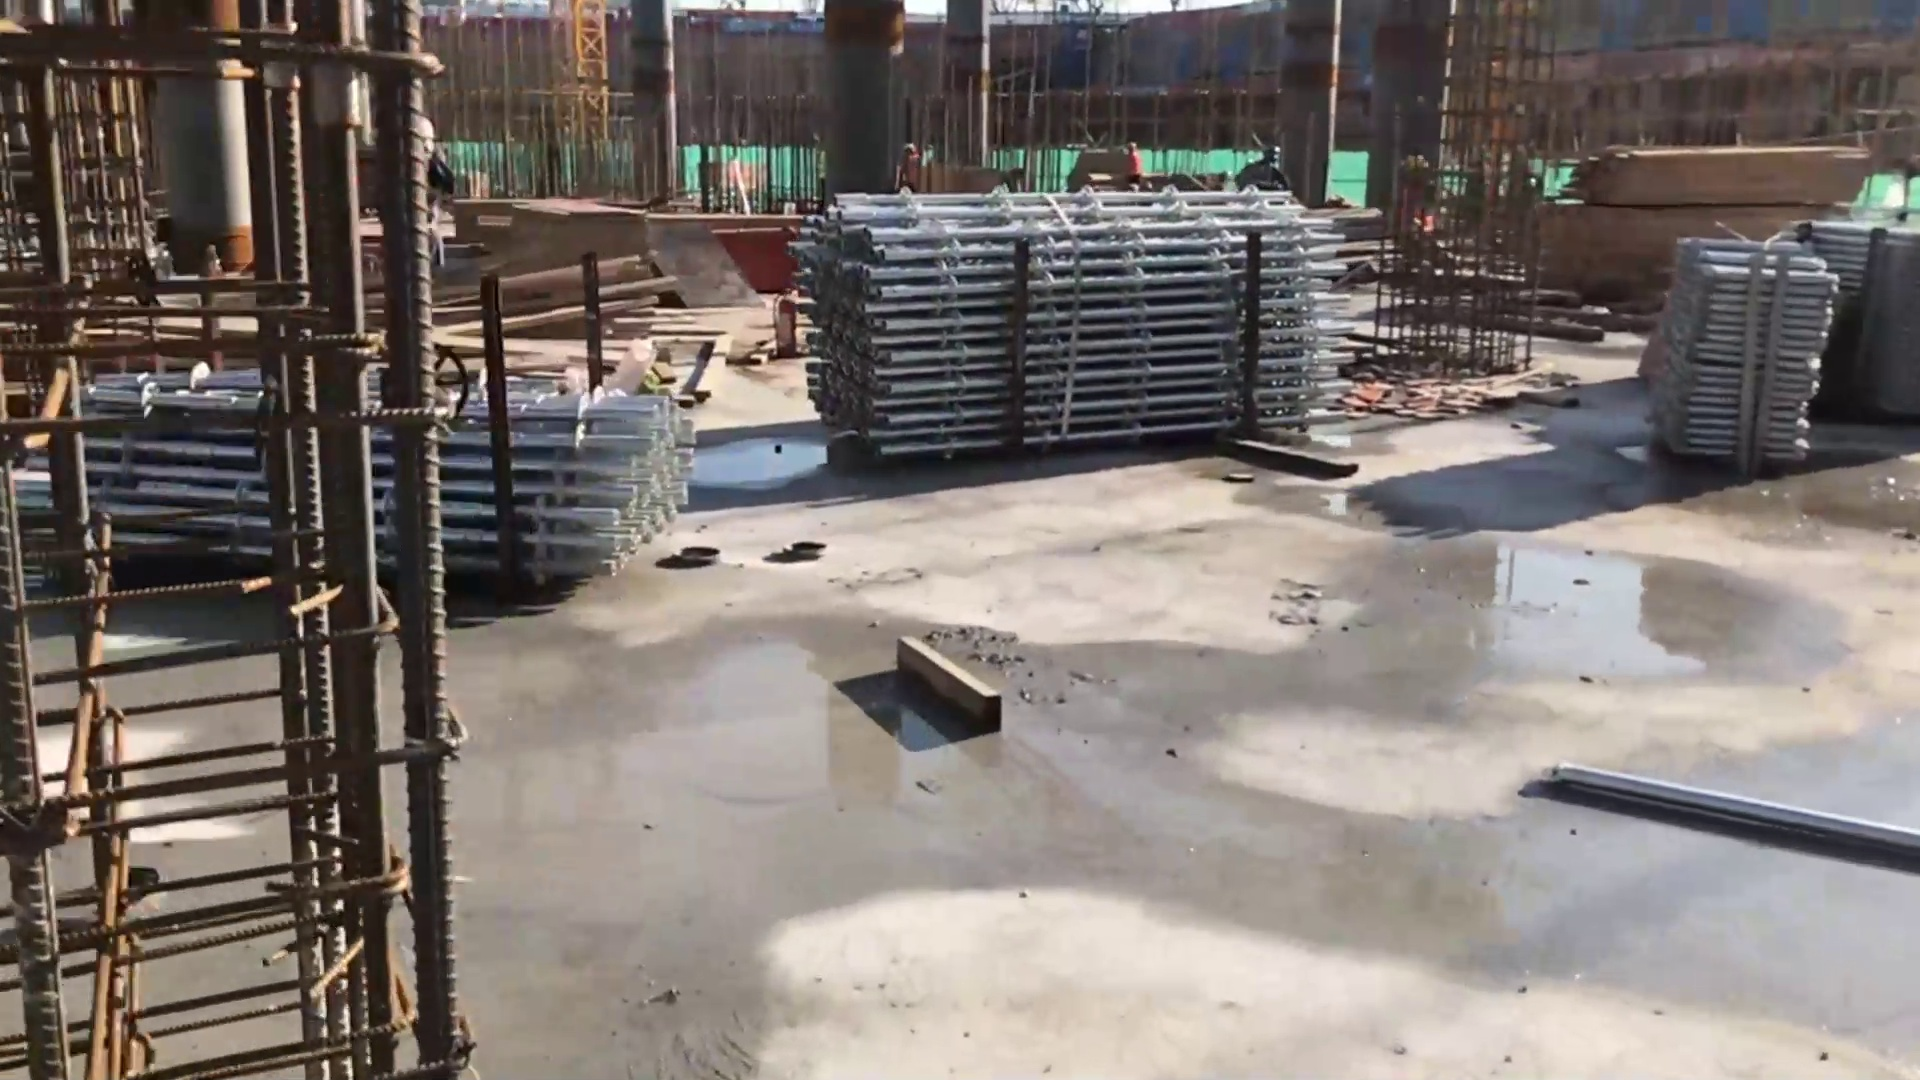person: (1238, 143, 1293, 195), (900, 143, 924, 194), (1118, 137, 1139, 184)
scaffold: (823, 189, 1338, 451), (1650, 222, 1920, 459), (439, 383, 702, 580)
